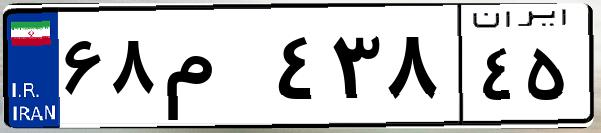3: (330, 28, 385, 110)
4: (270, 28, 330, 110), (475, 38, 525, 113)
5: (525, 38, 570, 115)
6: (57, 26, 110, 100)
8: (385, 28, 445, 110), (110, 28, 158, 98)
م: (158, 20, 270, 120)
